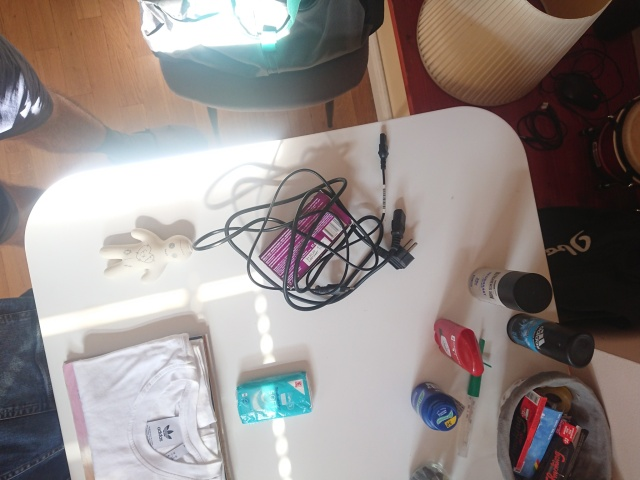Franck Black Currant Tea 60g: (257, 189, 354, 291)
